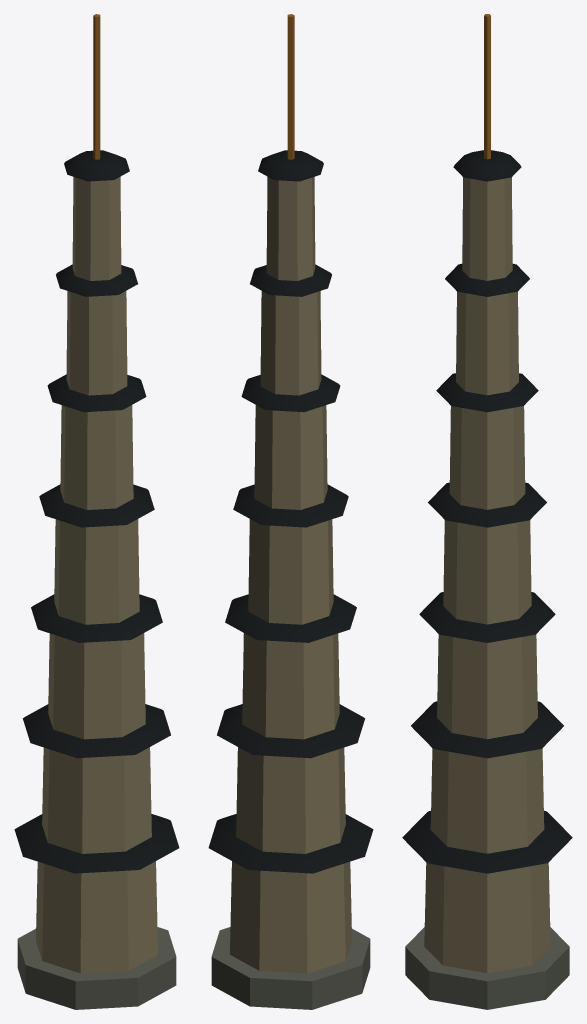
The model's file is hz-pagoda-baochu.glb.
3 renders of one model, left to right at view 1: azimuth 30°, elevation 25°; view 2: azimuth 150°, elevation 25°; view 3: azimuth 270°, elevation 25°, orthographic.
Visible parts, largest first — view 1: body__plaster, eaves__tile, finial__stone; view 2: body__plaster, eaves__tile, finial__stone; view 3: body__plaster, eaves__tile, finial__stone.
Part boxes in pixels (x1,y1,x2,y2): body__plaster: [17, 176, 176, 1009]; eaves__tile: [14, 150, 179, 873]; finial__stone: [93, 14, 100, 159]; body__plaster: [211, 176, 370, 1009]; eaves__tile: [208, 150, 373, 873]; finial__stone: [287, 14, 294, 159]; body__plaster: [405, 177, 569, 1009]; eaves__tile: [402, 150, 572, 873]; finial__stone: [484, 14, 490, 159].
Bounding box in the file's own units: 4.32 × 26.8 × 4.32.
